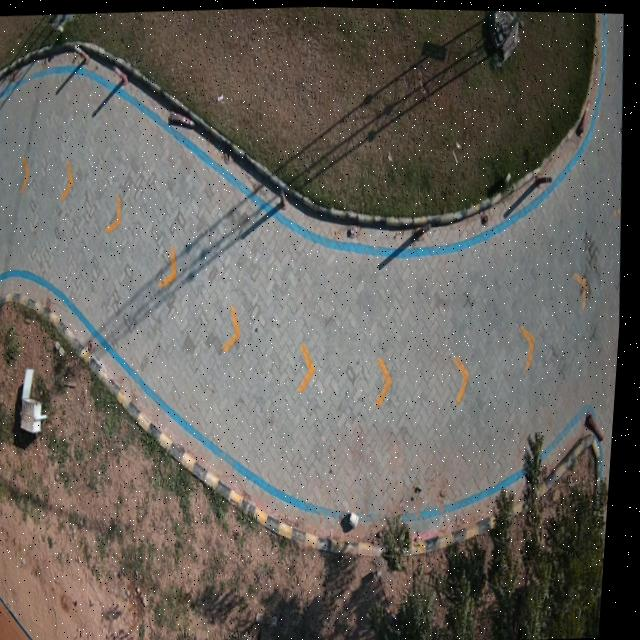No Car: (0, 5, 624, 640)
